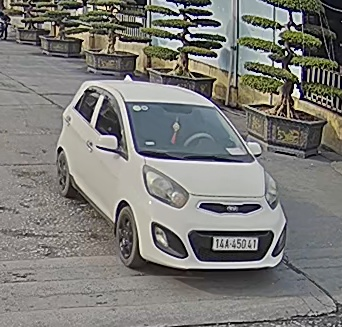vehicle plate: (211, 232, 261, 251)
